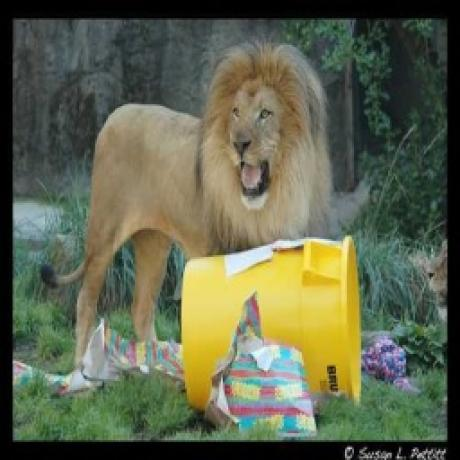Lion: (58, 38, 324, 390)
